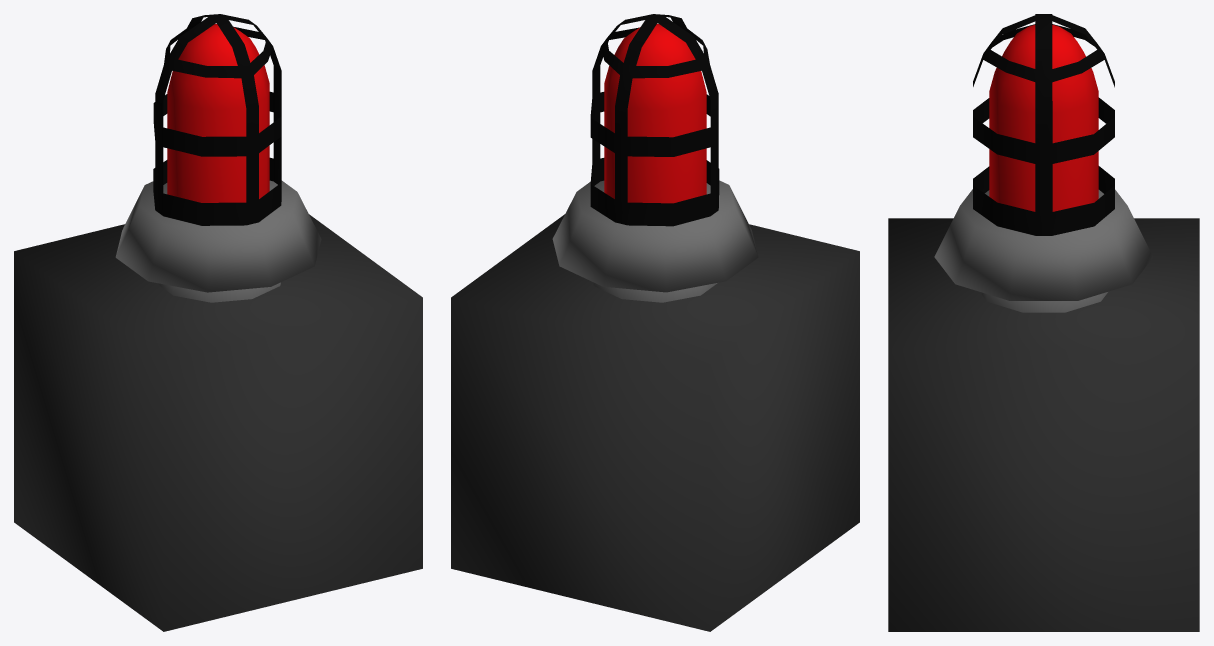
Rendered from TunnelLight.fbx.
3 views of the same model, side by side, from view 1: azimuth 30°, elevation 25°; view 2: azimuth 150°, elevation 25°; view 3: azimuth 270°, elevation 25° (orthographic). The views are drawn at different scales.
Parts seen in each view (by area): view 1: Cube; view 2: Cube; view 3: Cube.
Part boxes in pixels (box(x1,y1,x2,y2)): Cube: box(14, 14, 422, 631); Cube: box(451, 14, 859, 631); Cube: box(888, 14, 1199, 631).
Bounding box in the file's own units: 200 × 389 × 200.
